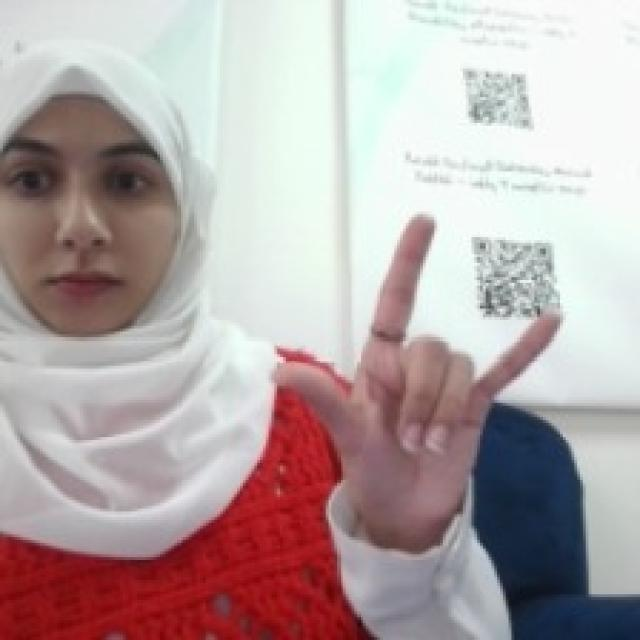love: (266, 206, 568, 523)
